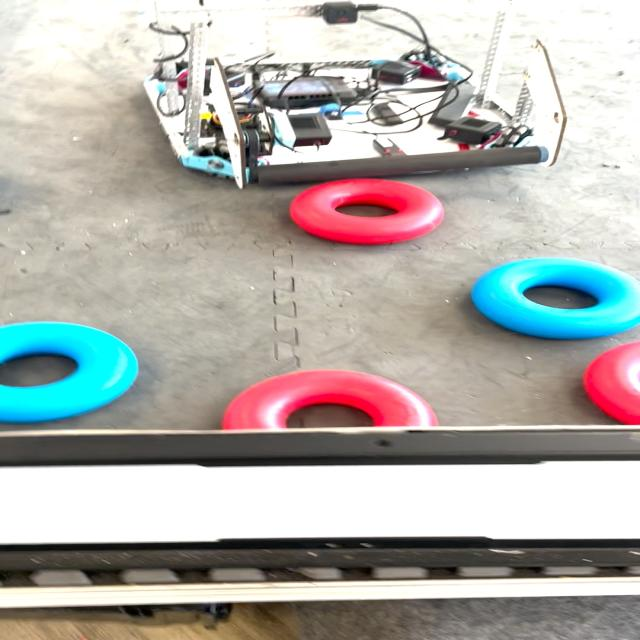Blue-Ring: (0, 321, 138, 422), (471, 258, 640, 339)
Red-Ring: (222, 369, 438, 430), (289, 179, 444, 244), (584, 341, 640, 425)
